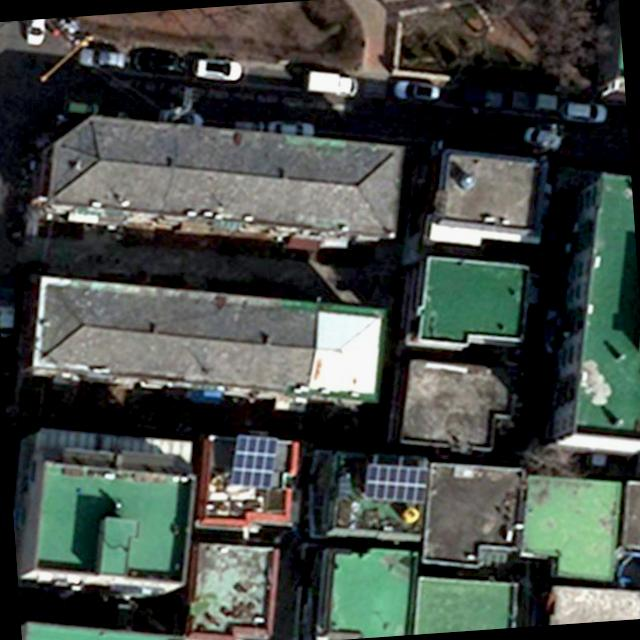solar: (226, 428, 284, 493), (361, 458, 433, 506)
